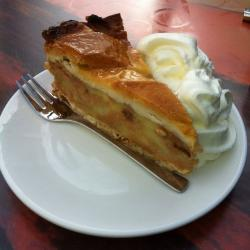apple_pie: (32, 25, 199, 191)
icecream: (141, 29, 241, 166)
